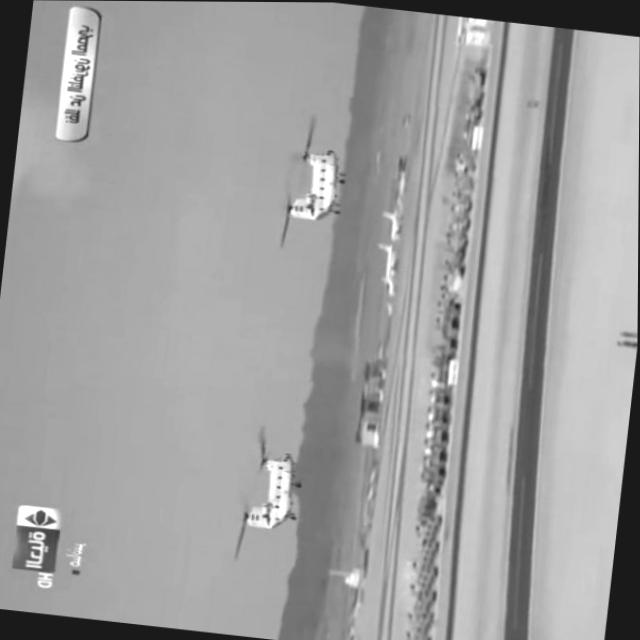helikopter: (206, 423, 327, 560), (258, 120, 360, 252)
